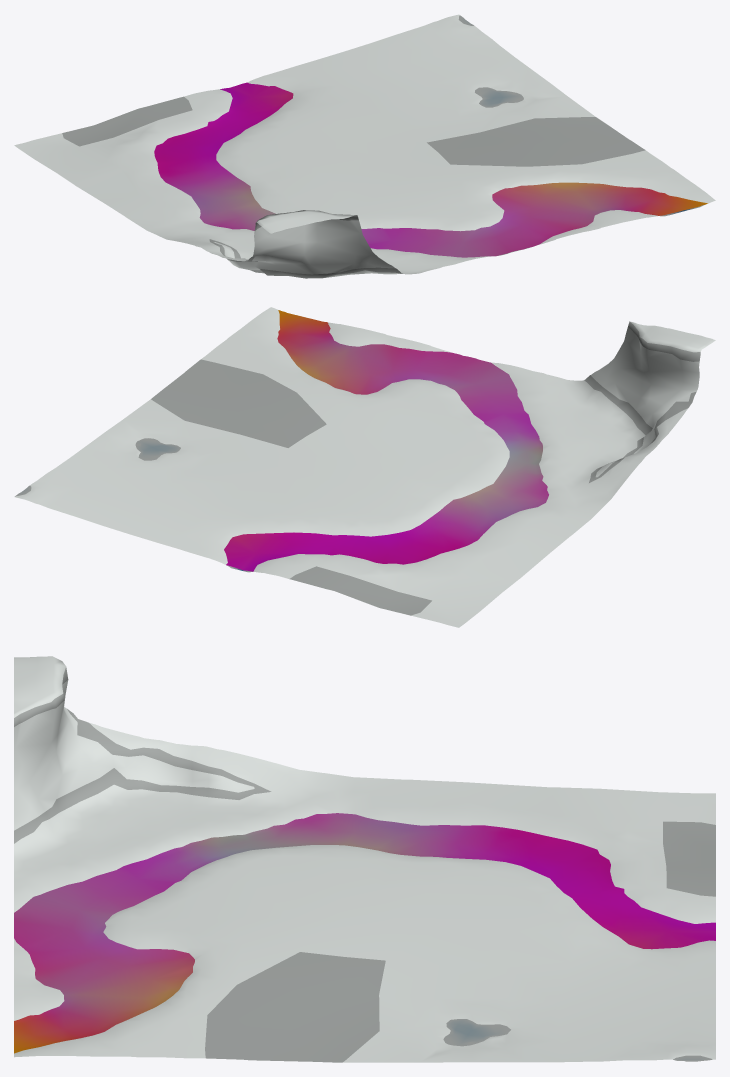
3 views of the same model, one above another, from view 1: azimuth 30°, elevation 25°; view 2: azimuth 150°, elevation 25°; view 3: azimuth 270°, elevation 25° (orthographic). The views are drawn at different scales.
Visible parts, largest first — view 1: G:\FFXIV-MapTools\exports\r2f1\bg\ex1\01_roc_r2\fld\r2f1\bgp (×5); view 2: G:\FFXIV-MapTools\exports\r2f1\bg\ex1\01_roc_r2\fld\r2f1\bgp (×5); view 3: G:\FFXIV-MapTools\exports\r2f1\bg\ex1\01_roc_r2\fld\r2f1\bgp (×5).
Boxes of the visible parts, bbox=[...] form: G:\FFXIV-MapTools\exports\r2f1\bg\ex1\01_roc_r2\fld\r2f1\bgp (×5): bbox=[14, 14, 715, 278]; G:\FFXIV-MapTools\exports\r2f1\bg\ex1\01_roc_r2\fld\r2f1\bgp (×5): bbox=[14, 307, 715, 627]; G:\FFXIV-MapTools\exports\r2f1\bg\ex1\01_roc_r2\fld\r2f1\bgp (×5): bbox=[14, 656, 715, 1062].
Size of the model in its own units: 128 by 28 by 128.
